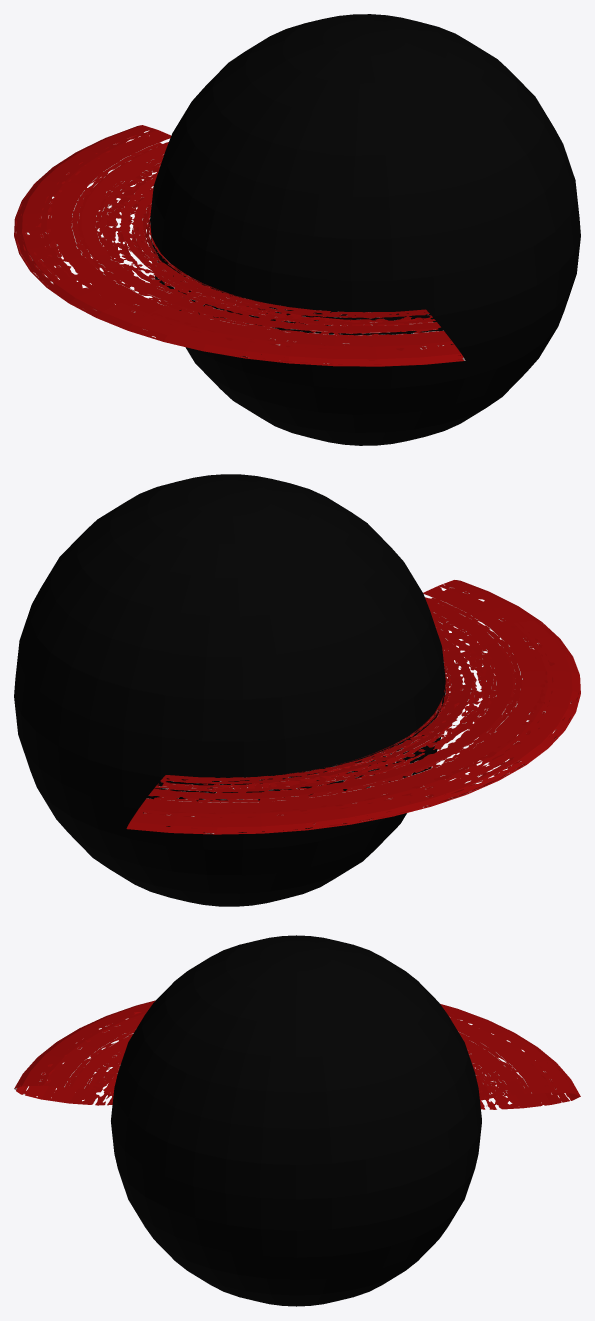
The picture shows the model from 3 angles, top to bottom: view 1: azimuth 30°, elevation 25°; view 2: azimuth 150°, elevation 25°; view 3: azimuth 270°, elevation 25°; orthographic projection. The views are drawn at different scales.
Visible parts, largest first — view 1: sphere, ring.001; view 2: sphere, ring.001; view 3: sphere, ring.001.
Part boxes in pixels (x1=…): sphere: x1=149, y1=14, x2=580, y2=445; ring.001: x1=14, y1=125, x2=465, y2=366; sphere: x1=14, y1=474, x2=445, y2=906; ring.001: x1=126, y1=580, x2=580, y2=834; sphere: x1=111, y1=935, x2=481, y2=1306; ring.001: x1=14, y1=1000, x2=580, y2=1109.
Size of the model in its own units: 2.64 by 2 by 3.05.
